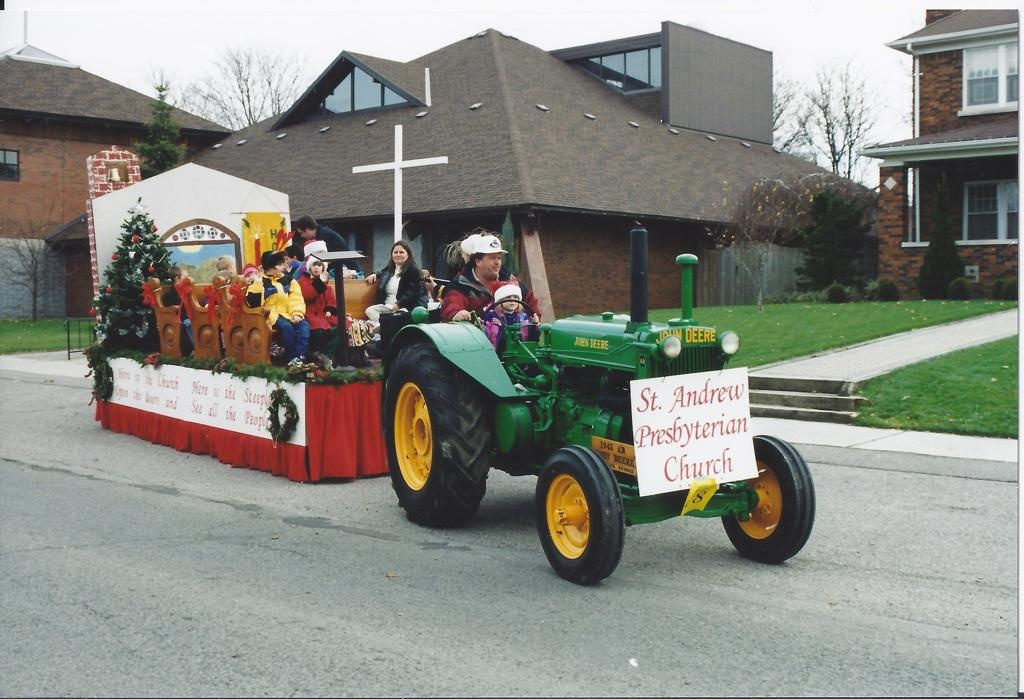human_face: (480, 249, 500, 279), (392, 244, 408, 264), (501, 294, 519, 310), (298, 224, 312, 240), (271, 258, 283, 274), (310, 262, 322, 276), (284, 252, 296, 266), (226, 258, 234, 276), (246, 273, 256, 285), (178, 270, 186, 284)
